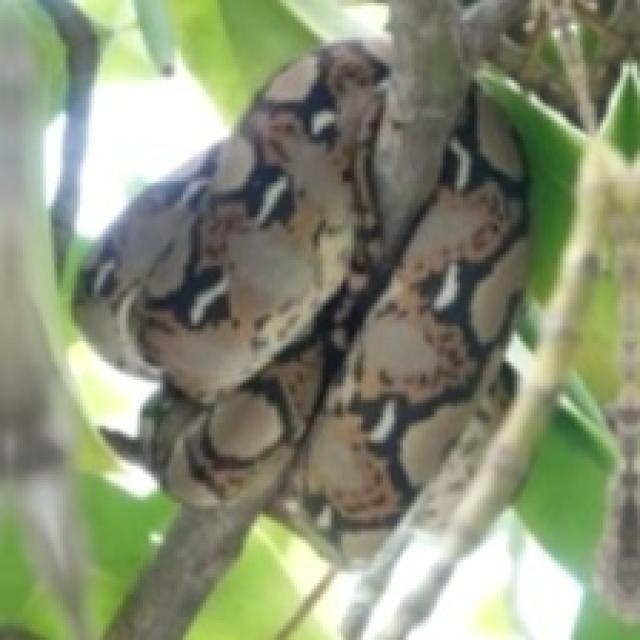reticulated python: (74, 40, 526, 563)
